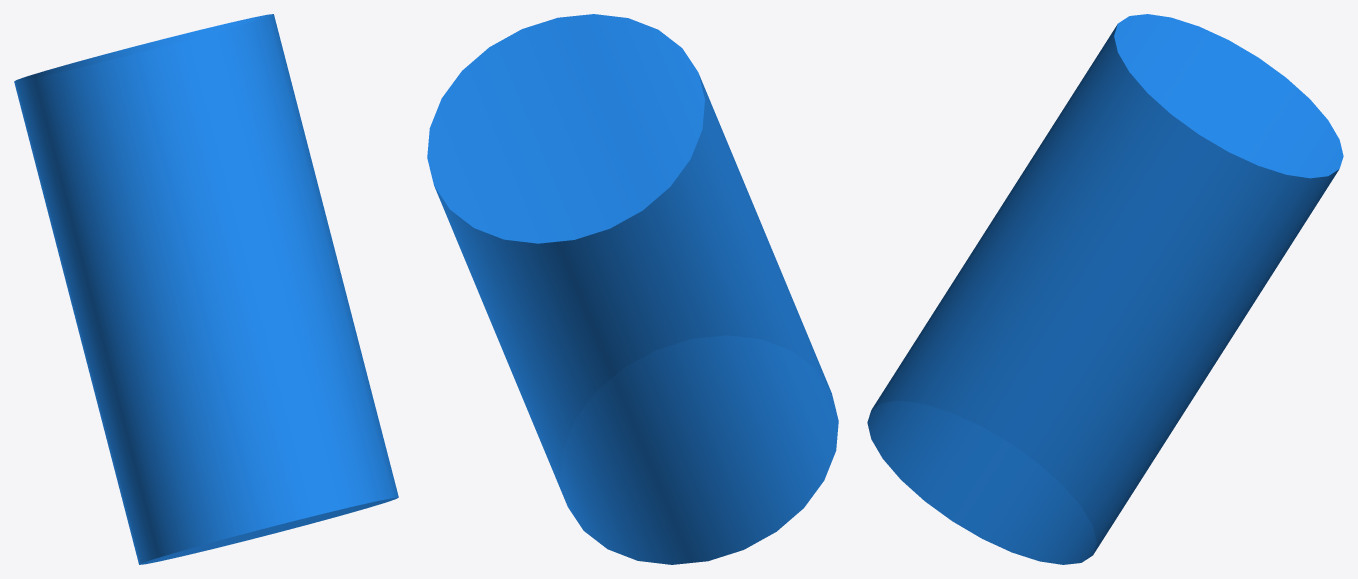
File: Event_134295681_MET.fbx
The picture shows the model from 3 angles, left to right: view 1: azimuth 30°, elevation 25°; view 2: azimuth 150°, elevation 25°; view 3: azimuth 270°, elevation 25°; orthographic projection. The views are drawn at different scales.
Parts seen in each view (by area): view 1: Model; view 2: Model; view 3: Model.
Part boxes in pixels (x1,y1,x2,y2): Model: [14, 14, 398, 564]; Model: [427, 14, 838, 564]; Model: [867, 14, 1343, 564].
Bounding box in the file's own units: 0.04 × 0.0844 × 0.0718.
